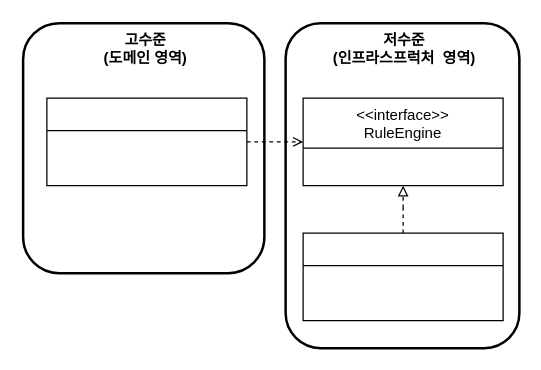
Some shapes in this 541 by 370 pixel diagram are drawn without their labels. Here are the shapes that lost their labels. From the top down, the centre of each, then its label:
point (146, 141): CalculateDiscountService
point (402, 276): DroolsEngineRule
